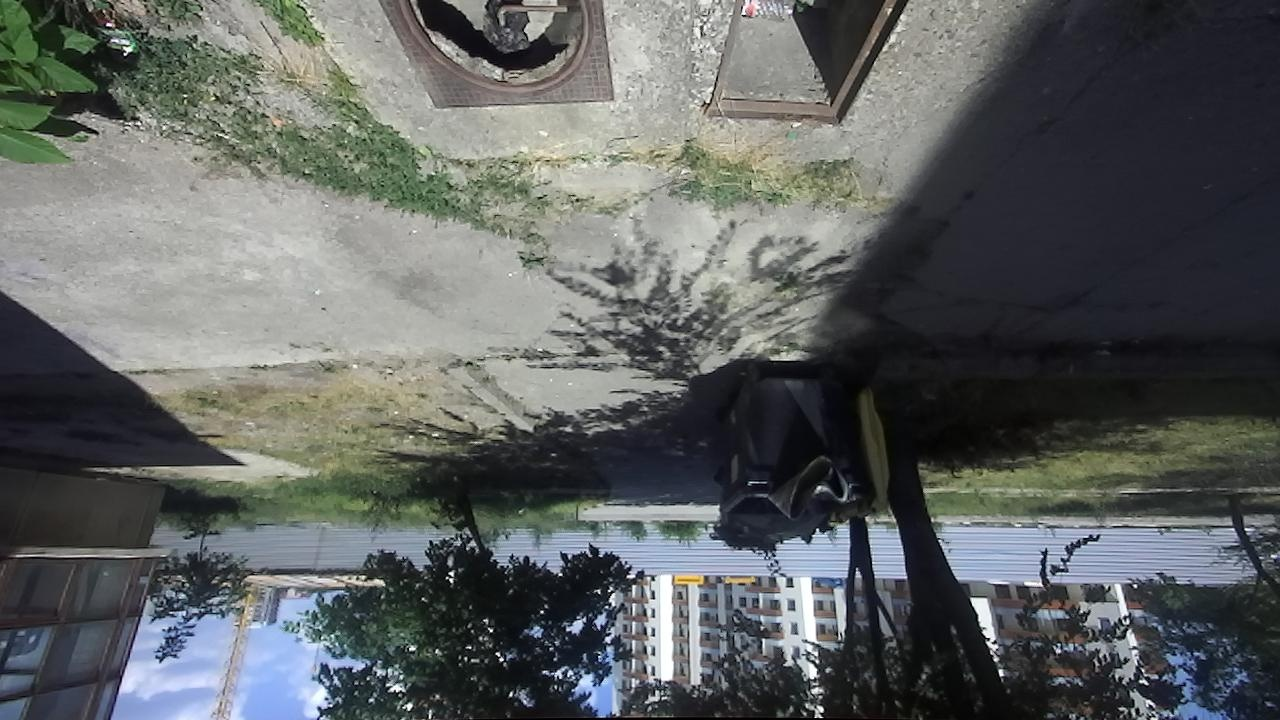drain: (703, 0, 911, 130), (391, 0, 591, 97)
